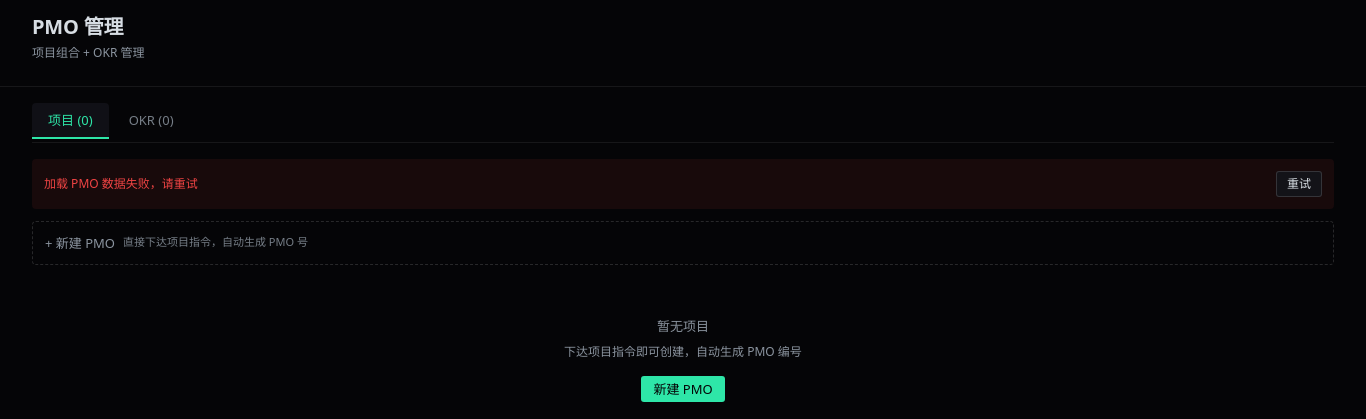
Test: 工单 38: PMOPage loadData 失败反馈 › 点击重试后恢复列表并清除错误条
The image size is (1366, 419).
What coordinates should you click on to do the following:
click the button "重试"
I would click on:
 (1299, 184)
Its box is [1276,171,1322,196].
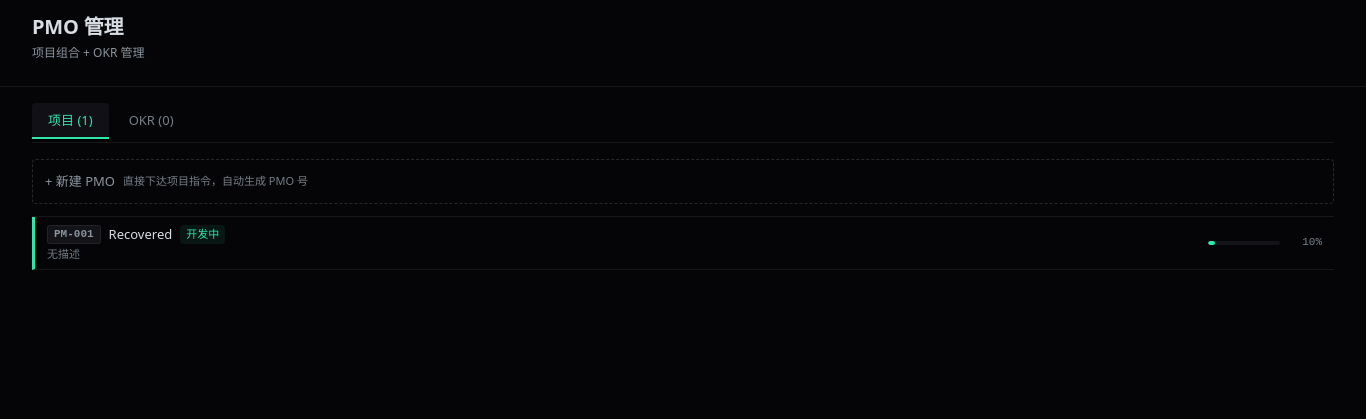
Expected: the text "Recovered" is shown, [109,225,172,243]
Expected: the text "加载 PMO 数据失败，请重试" is gone
